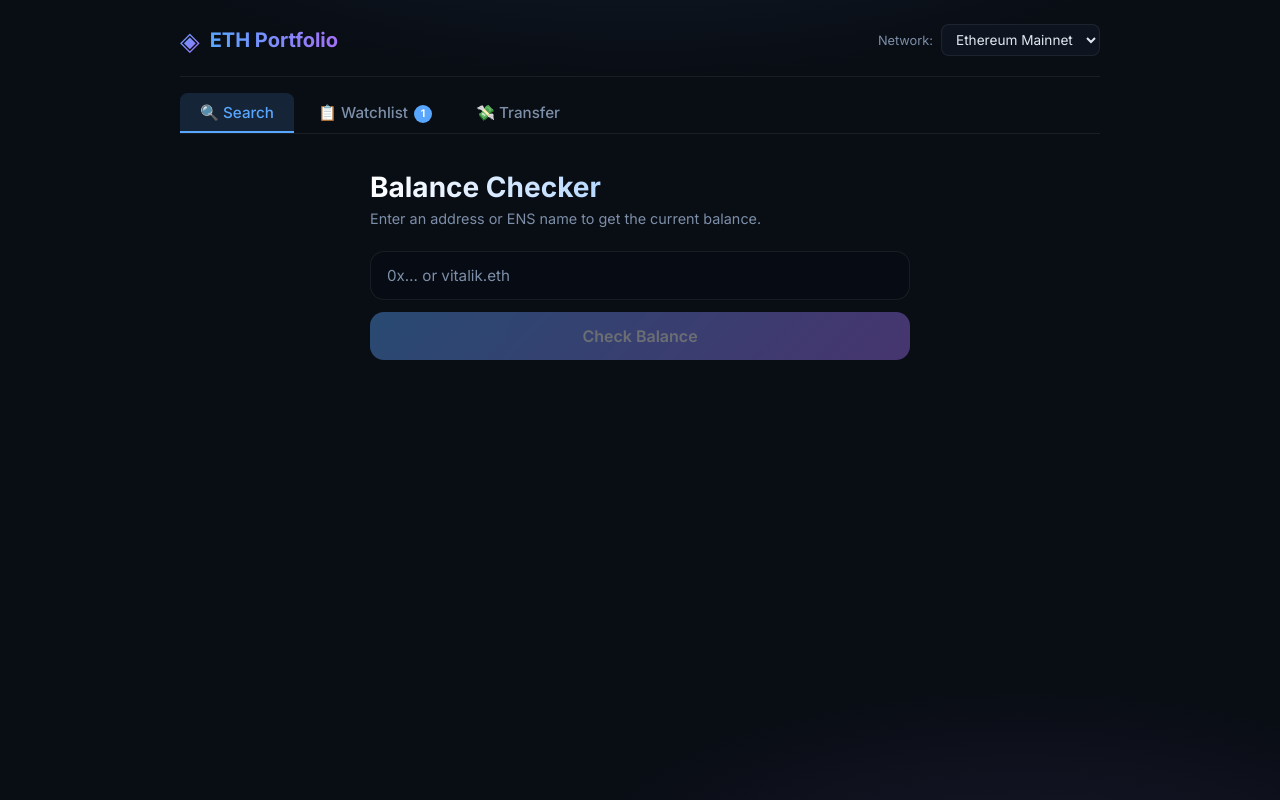
Scenario: App — Watchlist Tab › removes an entry from the watchlist
The image size is (1280, 800).
Click the tab with test id "watchlist-tab-btn" at {"x": 375, "y": 113}, box [298,93,452,133]
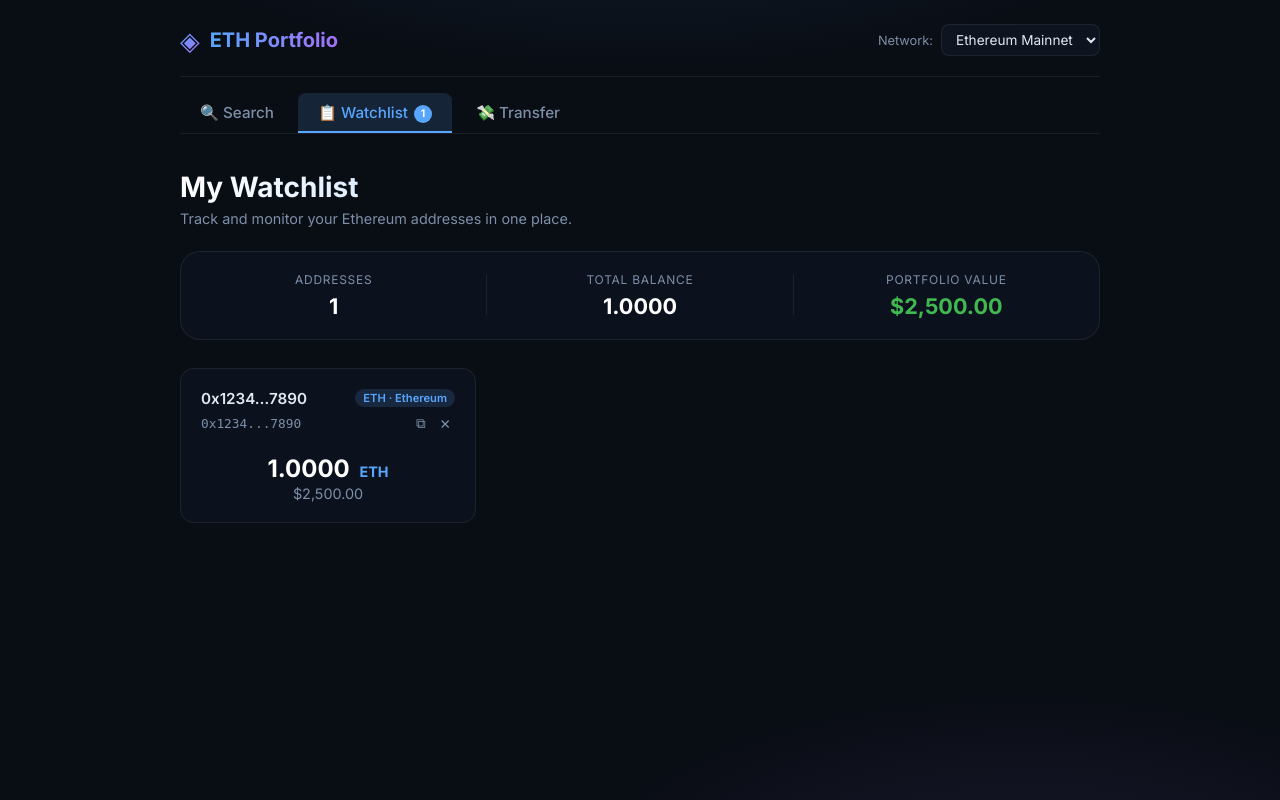
Now the element with test id "watchlist-panel" is shown, box [180,251,1100,523]
Click the button titled "Remove from watchlist" at {"x": 445, "y": 424}, box [436,414,455,434]
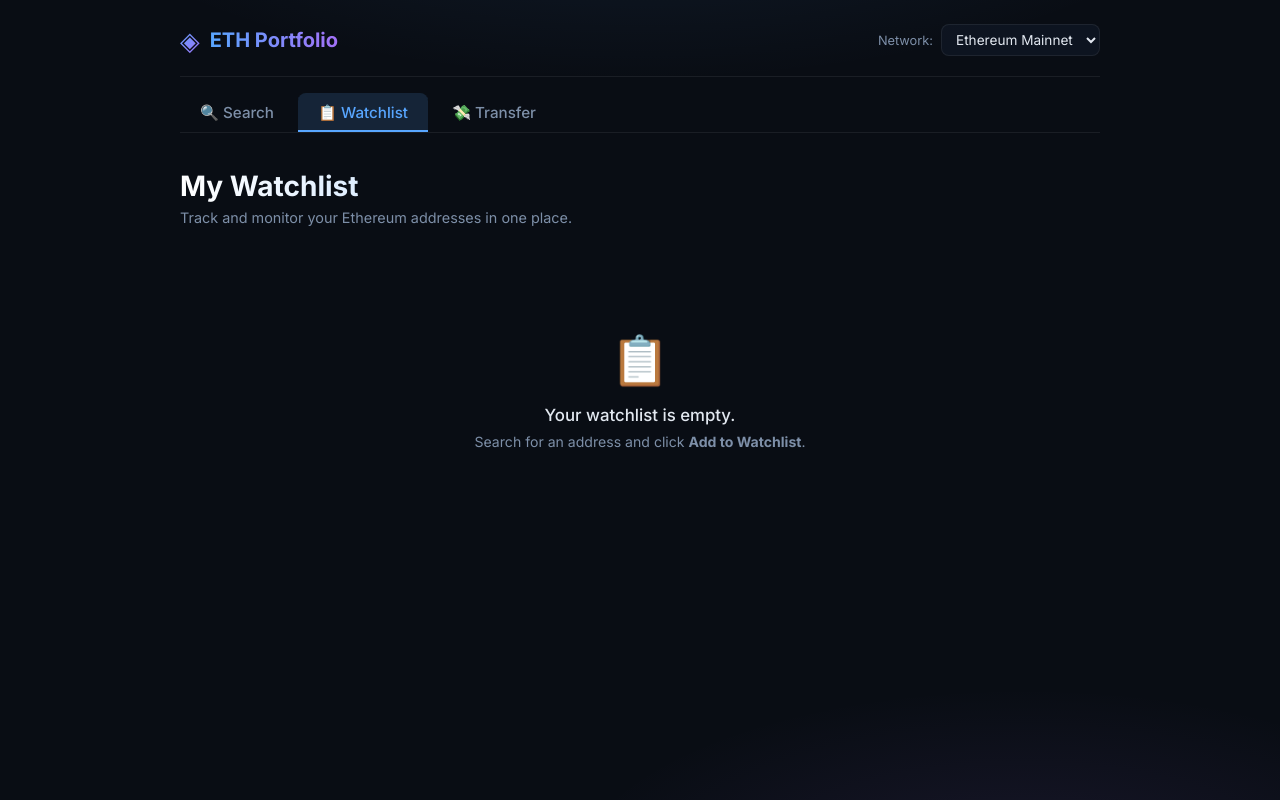
Now the element with test id "watchlist-empty" is shown, box [474,330,806,450]
